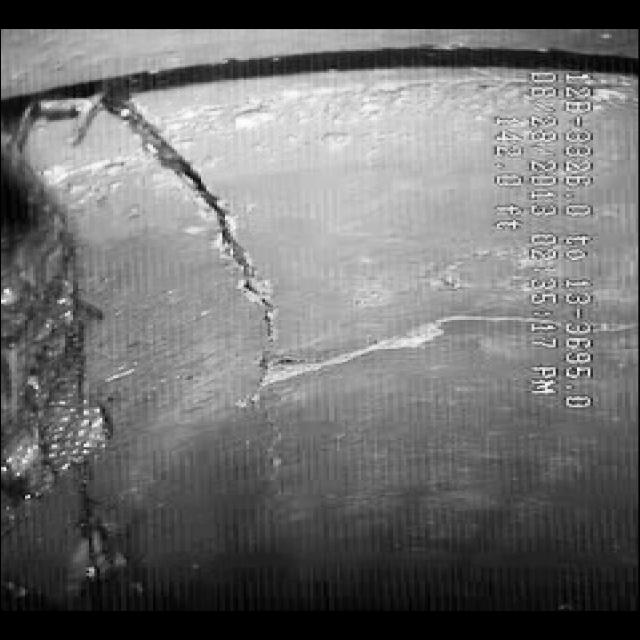Fracture: (122, 86, 438, 462)
